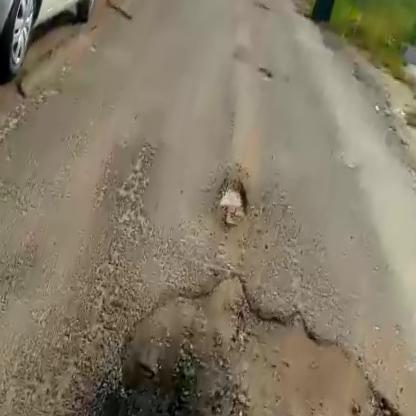pothole: (98, 252, 416, 416), (208, 174, 254, 226)
